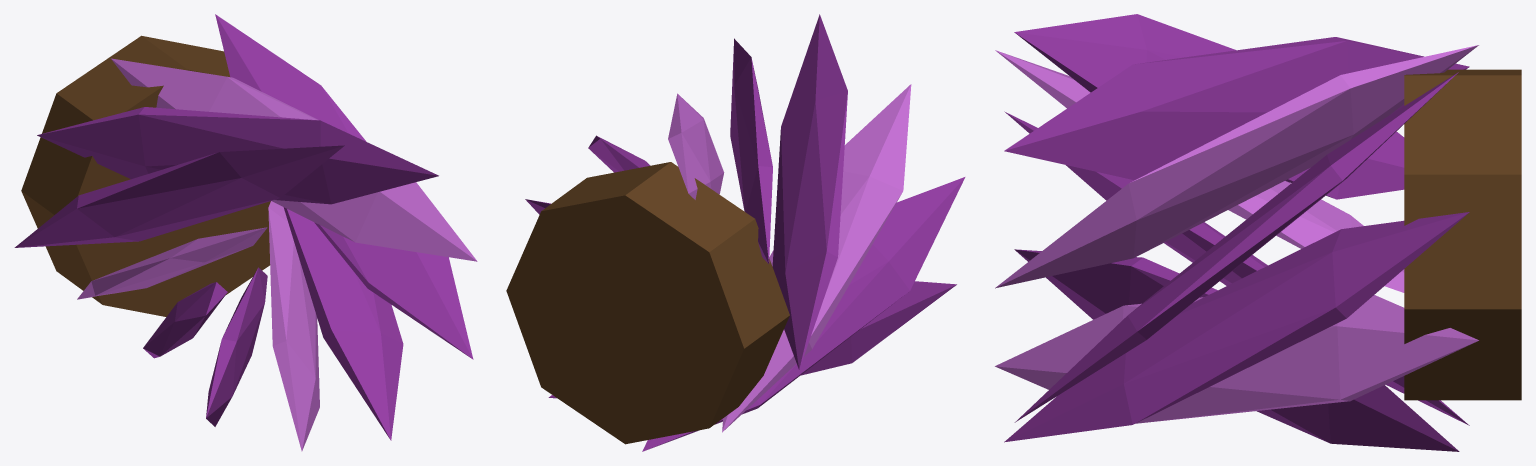
Rendered from 3_growing.obj.
The picture shows the model from 3 angles, left to right: view 1: azimuth 30°, elevation 25°; view 2: azimuth 150°, elevation 25°; view 3: azimuth 270°, elevation 25°; orthographic projection. The views are drawn at different scales.
Visible parts, largest first — view 1: toadflax_3_growing; view 2: toadflax_3_growing; view 3: toadflax_3_growing.
Part boxes in pixels (x1=…): toadflax_3_growing: x1=14, y1=14, x2=477, y2=451; toadflax_3_growing: x1=506, y1=14, x2=965, y2=451; toadflax_3_growing: x1=995, y1=14, x2=1521, y2=451.
Size of the model in its own units: 0.1511 by 0.1483 by 0.1797.
